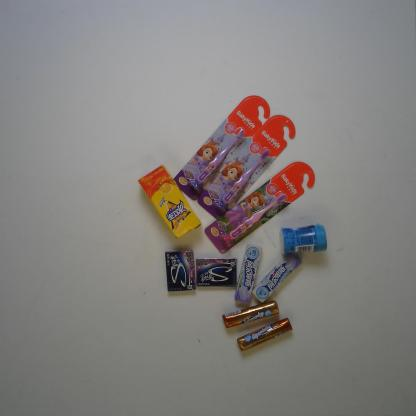Candy: (252, 253, 303, 306), (222, 298, 280, 332), (237, 316, 293, 351), (232, 244, 262, 304)
Drink: (138, 162, 204, 238)
Gum: (280, 218, 328, 258), (162, 247, 198, 292), (195, 257, 237, 288)
Personal Hygiene: (197, 113, 296, 222), (173, 94, 272, 200), (204, 162, 316, 254)
